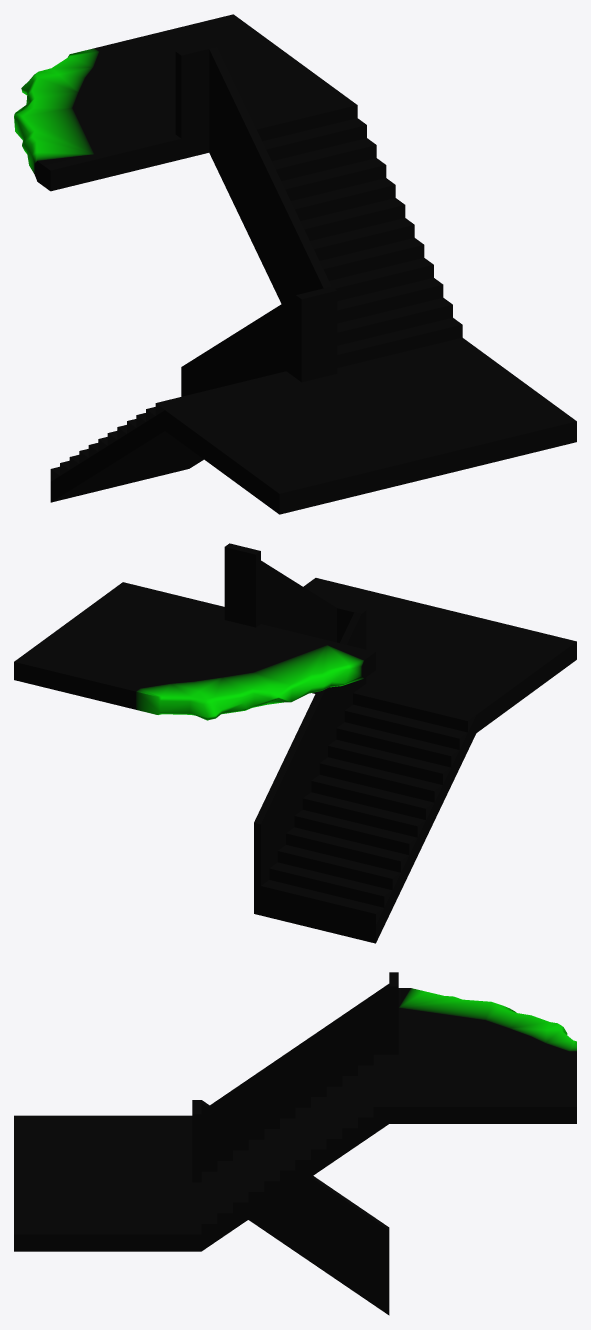
The model's file is stairs_01_Broken_01.fbx.
3 views of the same model, one above another, from view 1: azimuth 30°, elevation 25°; view 2: azimuth 150°, elevation 25°; view 3: azimuth 270°, elevation 25° (orthographic). The views are drawn at different scales.
Visible parts, largest first — view 1: stairs_01_Broken_01; view 2: stairs_01_Broken_01; view 3: stairs_01_Broken_01.
Part boxes in pixels (left/top/right/bottom): stairs_01_Broken_01: left=14, top=14, right=576, bottom=514; stairs_01_Broken_01: left=14, top=543, right=576, bottom=943; stairs_01_Broken_01: left=14, top=972, right=576, bottom=1315.
Size of the model in its own units: 300 by 400 by 600.
